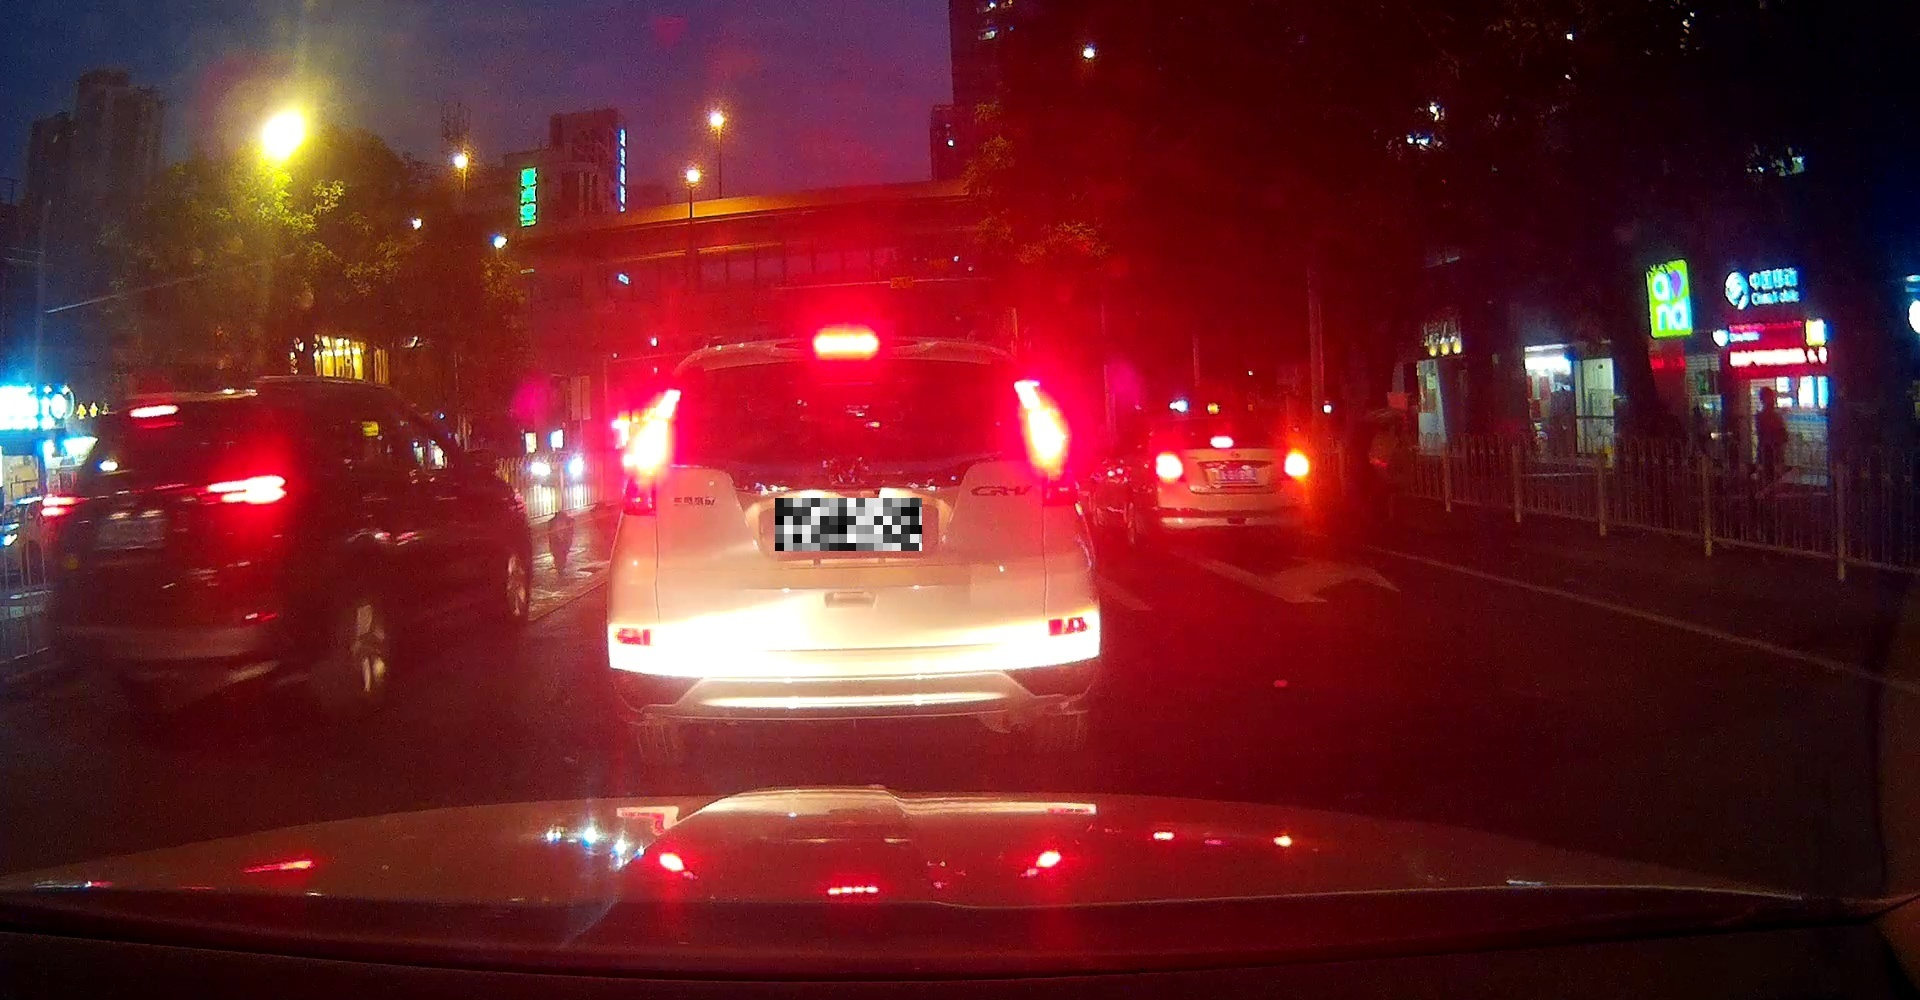L_light: (620, 388, 682, 514), (42, 492, 88, 518), (1156, 456, 1183, 478)
R_light: (1013, 379, 1081, 506), (194, 475, 288, 504), (1285, 453, 1309, 477)
T_light: (811, 336, 879, 357), (130, 404, 180, 418), (1210, 437, 1234, 448)
night-brake: (604, 330, 1102, 758), (41, 391, 316, 720), (1149, 409, 1310, 543)
plate_1: (775, 497, 922, 551)
